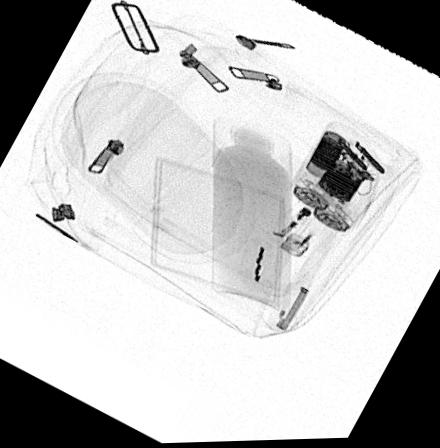Lighter: (267, 196, 342, 261)
